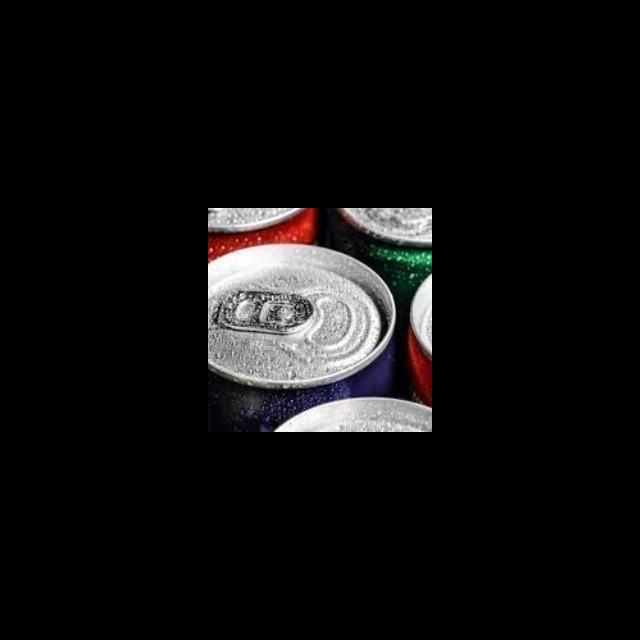metal: (208, 240, 402, 400)
